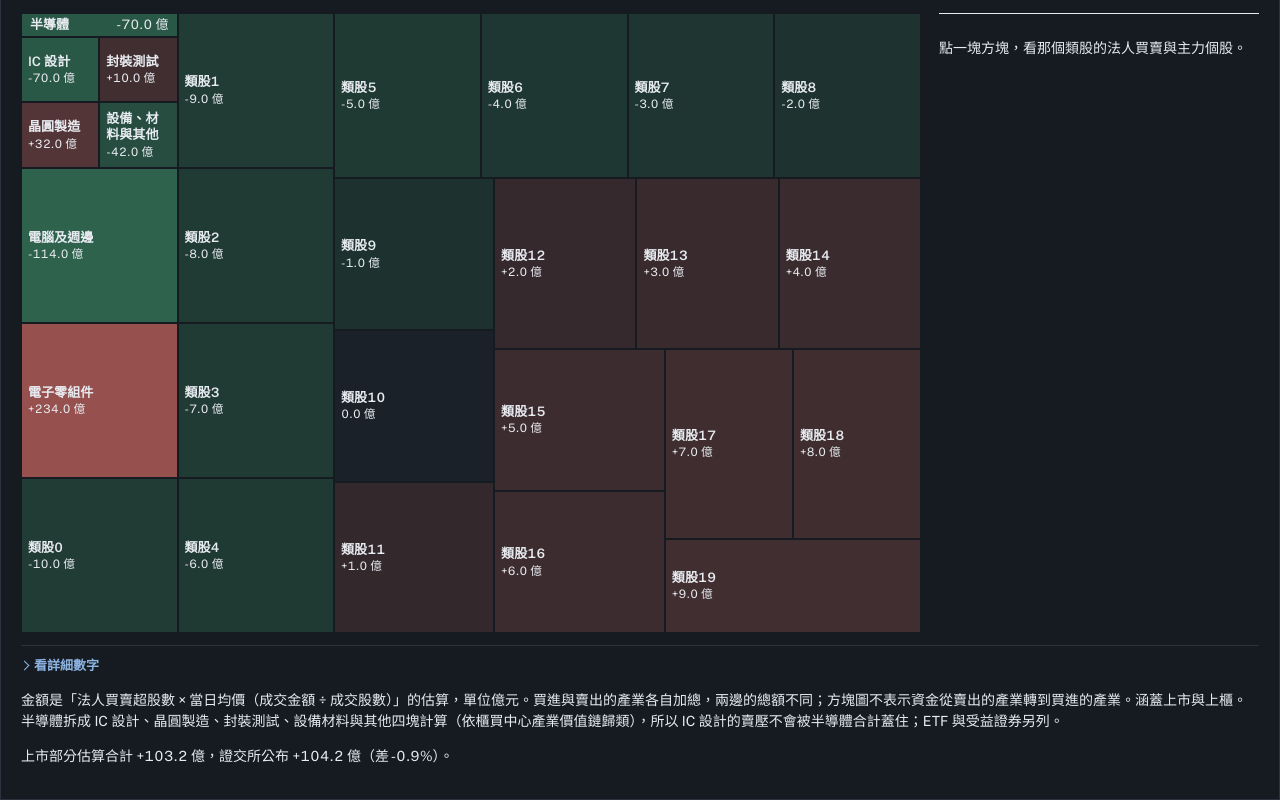
Test: SectorFlowPage: the table › opens 半導體 into its parts by default and can fold them, separate from opening its detail
The width and height of the screenshot is (1280, 800).
(page scrolled)
Click the heading "看詳細數字" at (60, 666), box [21,656,99,676]
(page scrolled)
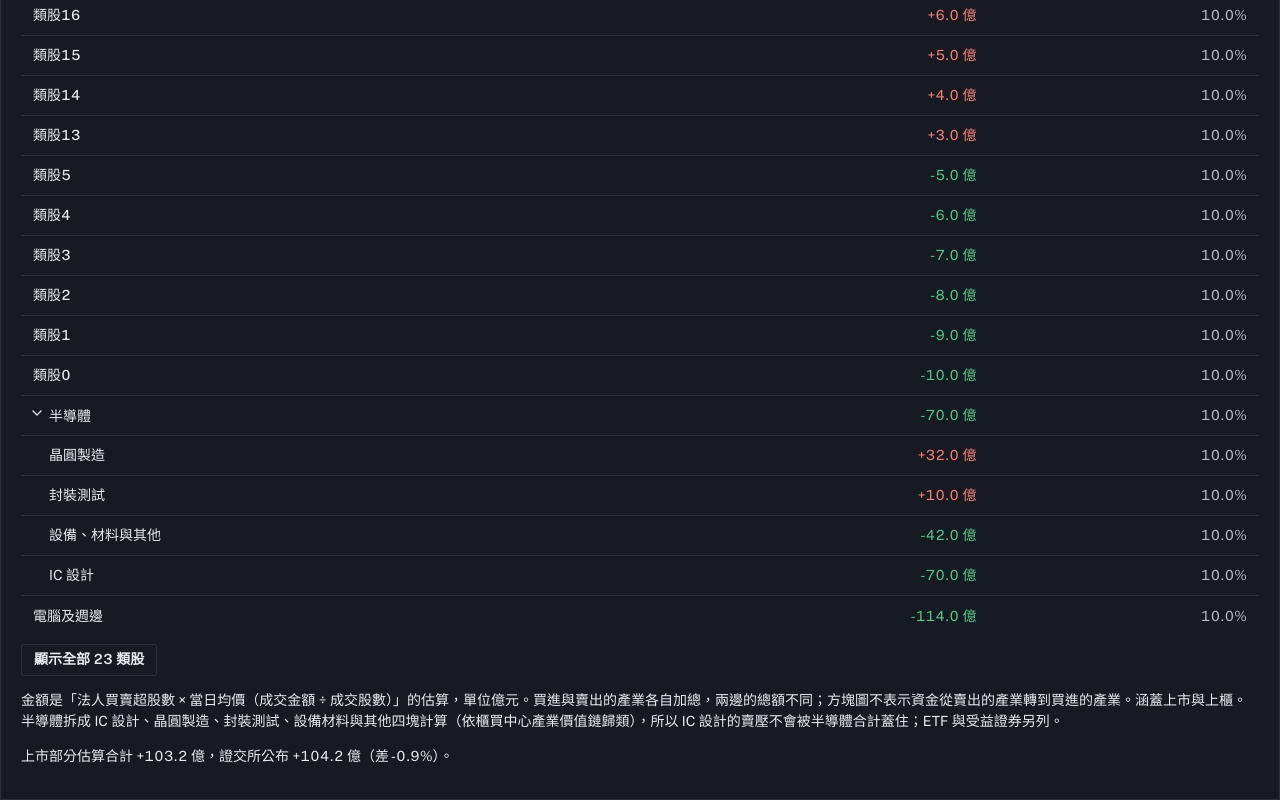
Expected: the button "IC 設計" is shown, [49,565,94,586]
Click the button named "收合半導體細分" at (39, 413), box [29,405,49,421]
(page scrolled)
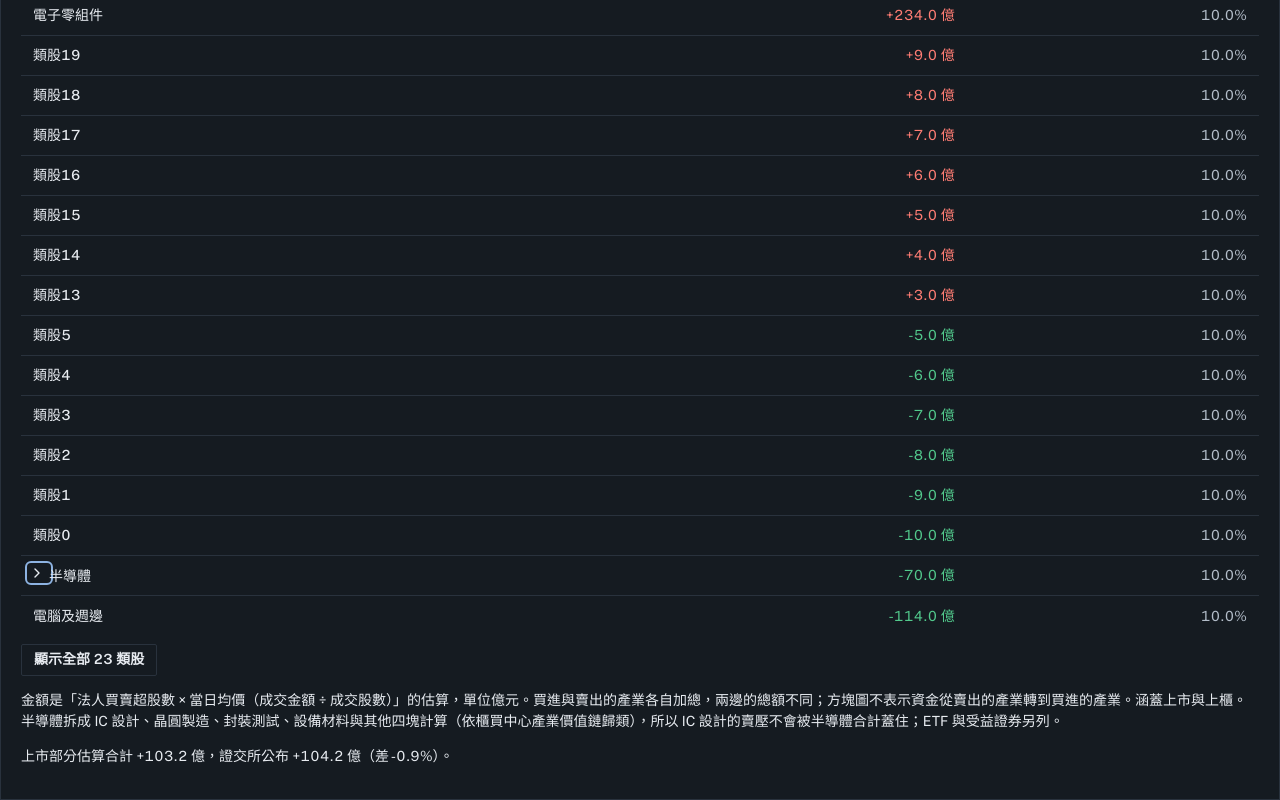
Expected: the text "IC 設計" is not shown
Click the button named "展開半導體細分" at (39, 573), box [29,565,49,581]
(page scrolled)
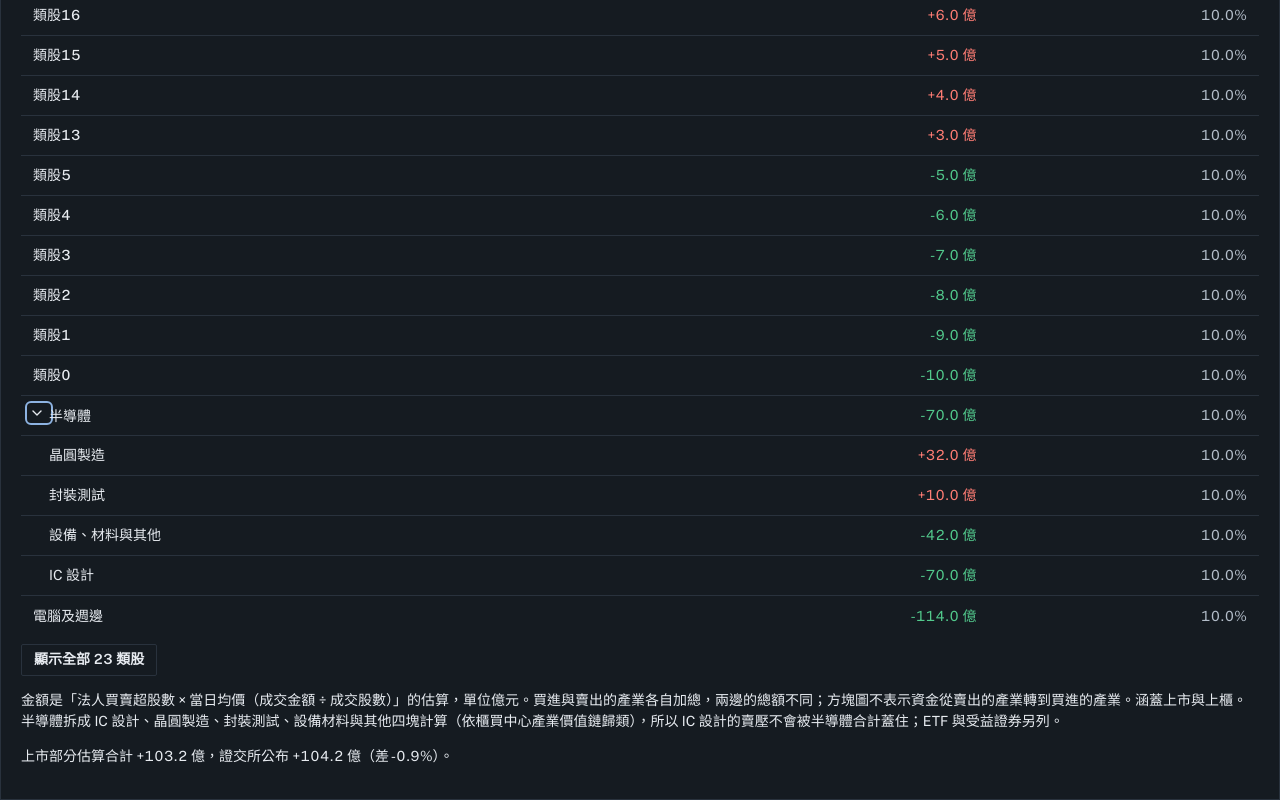
Expected: the button "IC 設計" is shown, [49,565,94,586]
Click the button "半導體" at (70, 416), box [49,406,91,427]
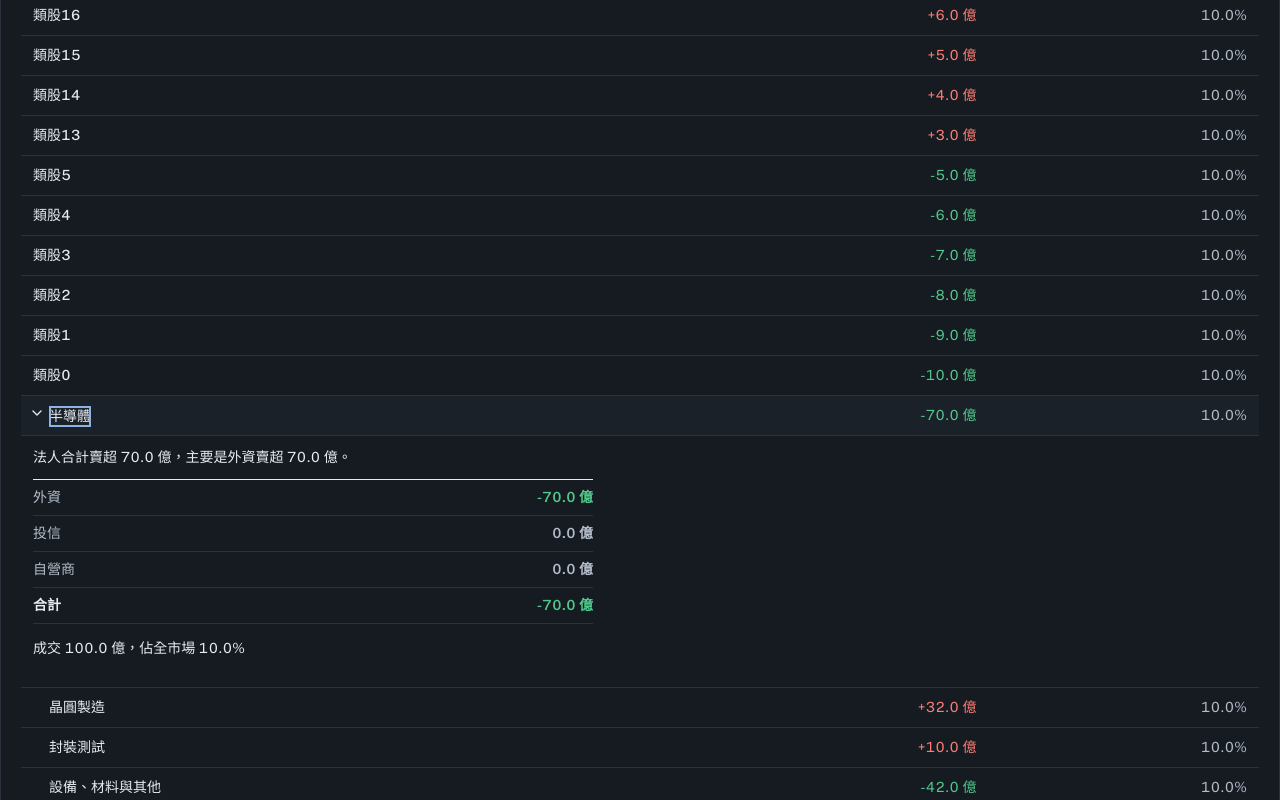
Expected: the element named "半導體細節" is shown, [33,446,593,659]
